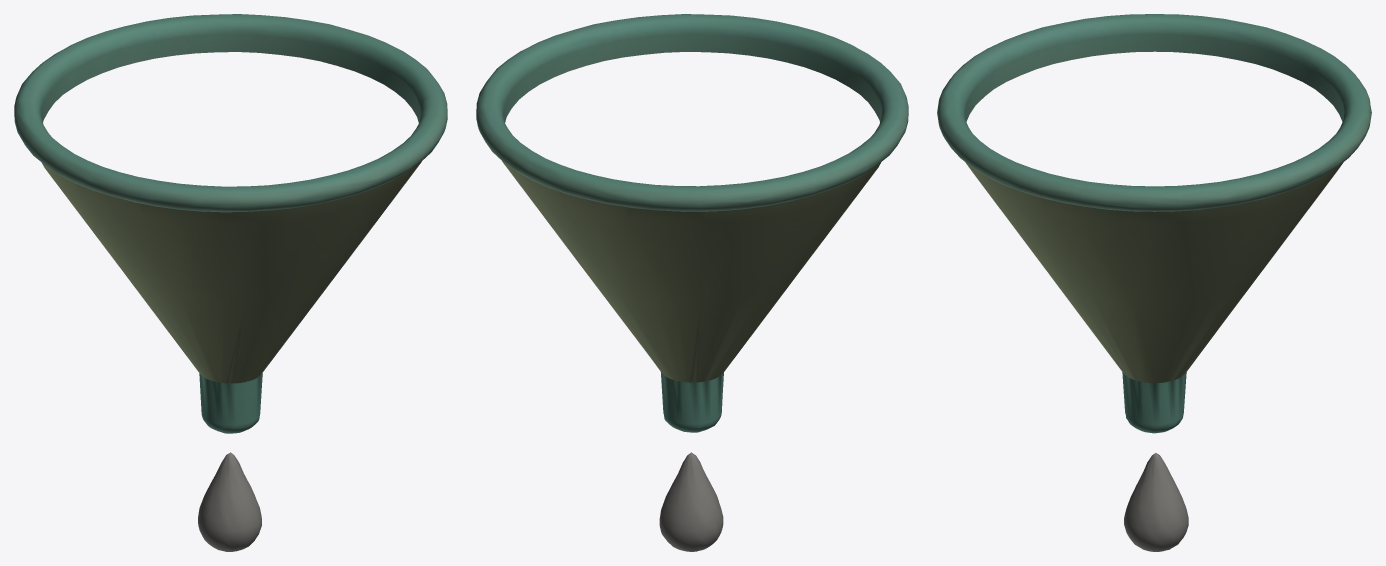
The model's file is icon-funnel.glb.
3 views of the same model, side by side, from view 1: azimuth 30°, elevation 25°; view 2: azimuth 150°, elevation 25°; view 3: azimuth 270°, elevation 25° (orthographic).
Parts seen in each view (by area): view 1: tripo_node_kodyurd-model-44____________________; view 2: tripo_node_kodyurd-model-44____________________; view 3: tripo_node_kodyurd-model-44____________________.
Boxes of the visible parts, <box> form: tripo_node_kodyurd-model-44____________________: <box>14,14,447,551</box>; tripo_node_kodyurd-model-44____________________: <box>476,14,908,551</box>; tripo_node_kodyurd-model-44____________________: <box>937,14,1371,551</box>.
Size of the model in its own units: 0.8809 by 0.998 by 0.8809.
1 material, 1 textured.
